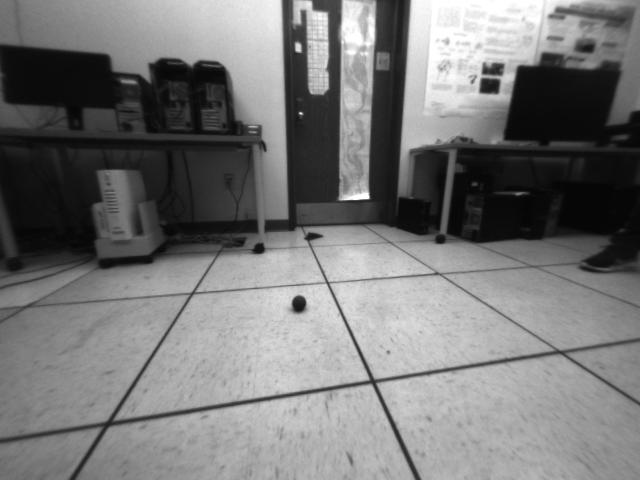dogtoy: (287, 292, 313, 317)
